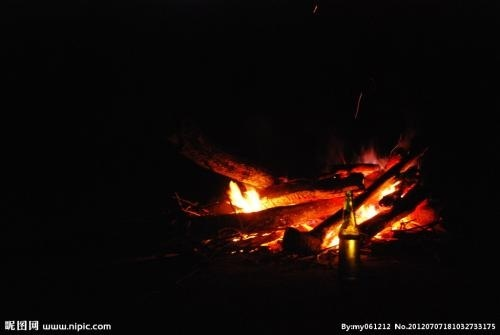fire: (226, 144, 427, 255), (225, 179, 278, 212)
